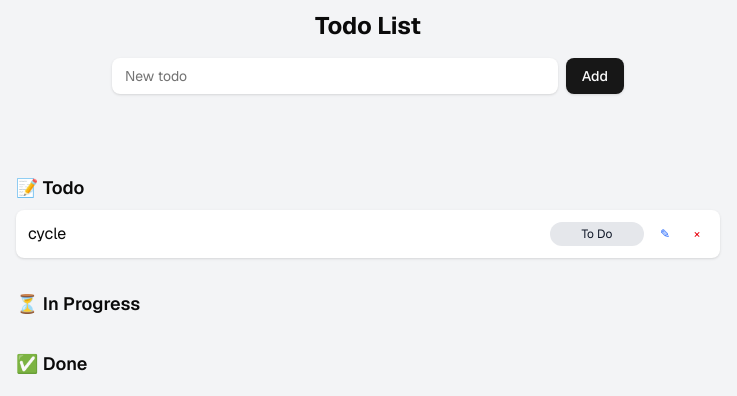
it: Home page data flow › reverts from done back to another status and clears completed styling
Expected: the text "cycle" is shown, [28, 222, 66, 246]
Select "Done" in the dropdown named "change todo status" at x=597, y=234, box [550, 222, 644, 246]
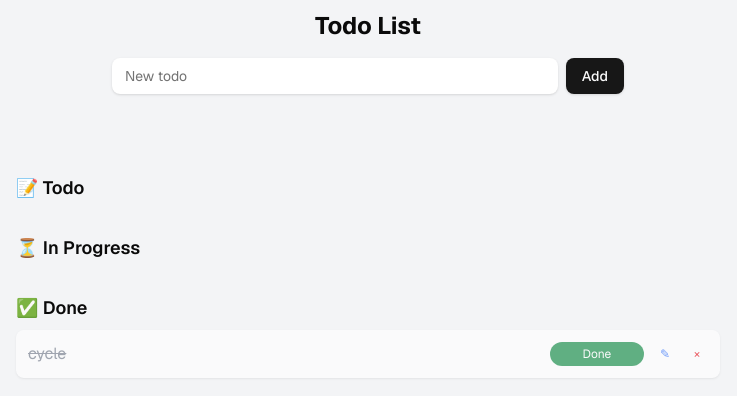
Expected: the dropdown named "change todo status" shows "Done"
Select "To Do" in the dropdown named "change todo status" at x=597, y=354, box [550, 342, 644, 366]
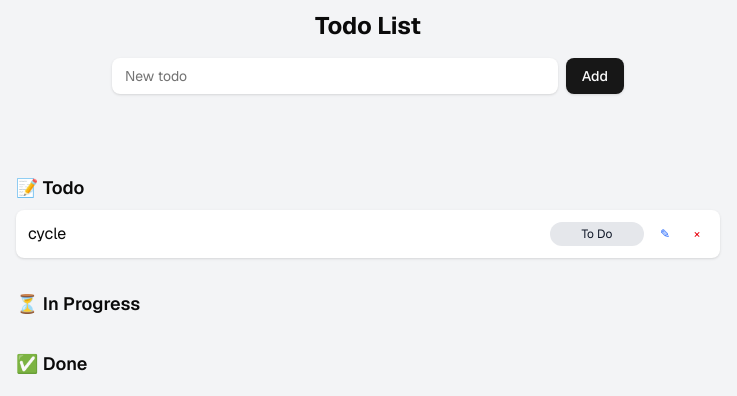
Expected: the dropdown named "change todo status" shows "To Do", [550, 222, 644, 246]
